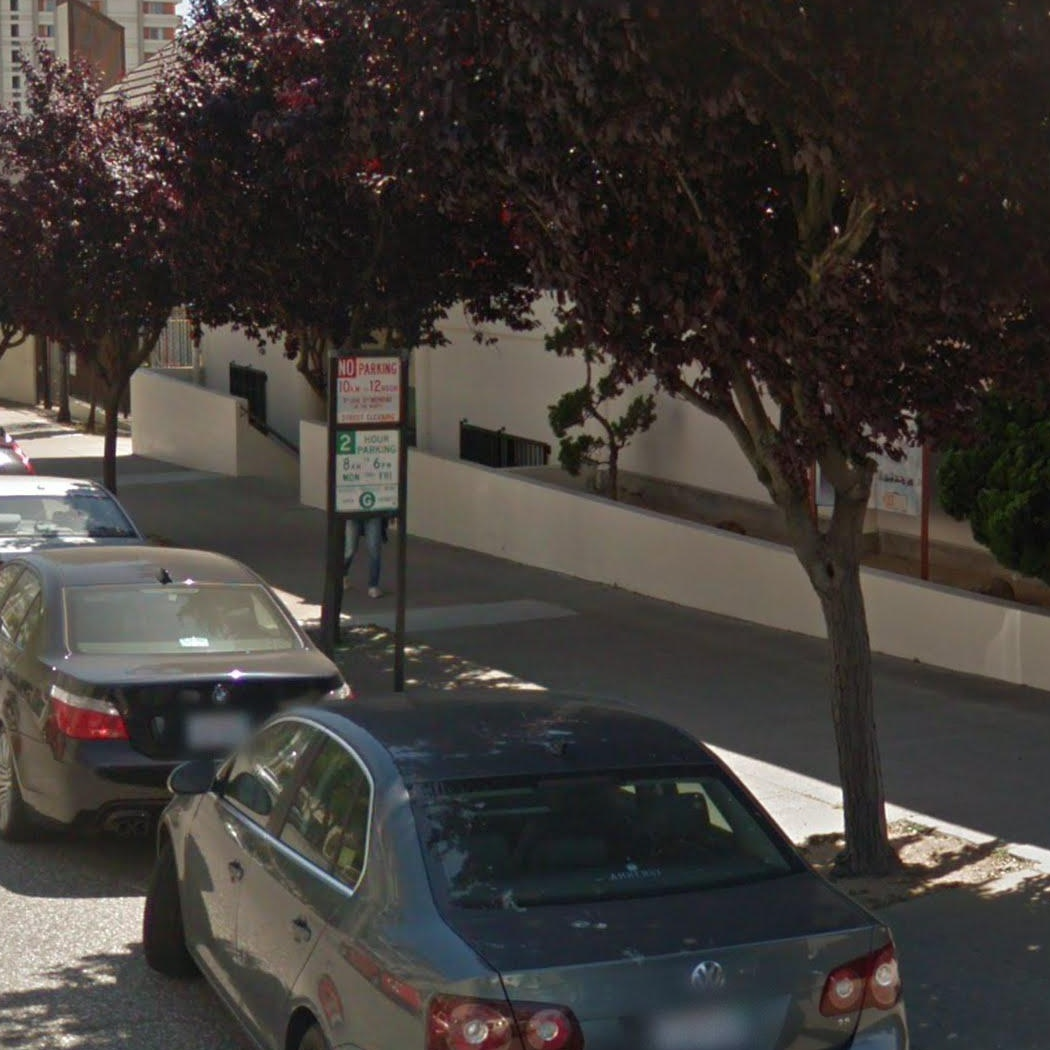2 Hour Parking: (334, 427, 402, 514)
No Parking: (334, 355, 402, 426)
